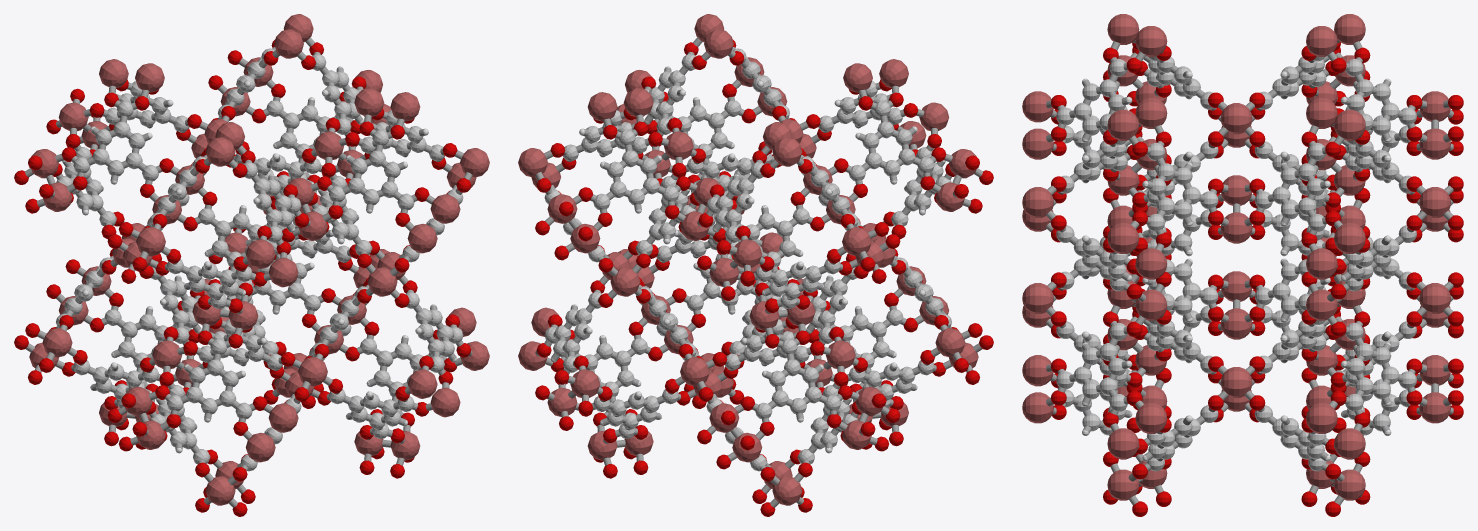
The model's file is 01_framework.glb.
The picture shows the model from 3 angles, left to right: view 1: azimuth 30°, elevation 25°; view 2: azimuth 150°, elevation 25°; view 3: azimuth 270°, elevation 25°; orthographic projection. The views are drawn at different scales.
Visible parts, largest first — view 1: 01_framework_trace0_mesh0; view 2: 01_framework_trace0_mesh0; view 3: 01_framework_trace0_mesh0.
Boxes of the visible parts, left/top/right/bottom form: 01_framework_trace0_mesh0: left=14, top=14, right=489, bottom=516; 01_framework_trace0_mesh0: left=518, top=14, right=993, bottom=516; 01_framework_trace0_mesh0: left=1022, top=14, right=1463, bottom=516.
Bounding box in the file's own units: 29.28 × 29.2 × 29.3.
